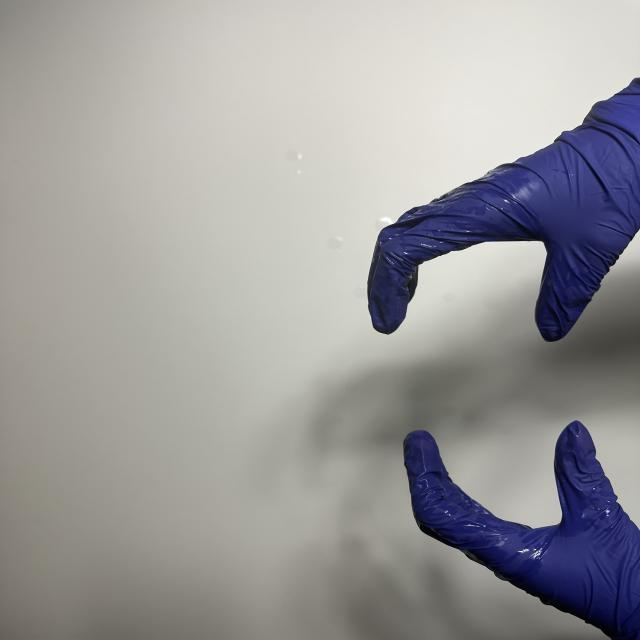gloves_contaminated: (368, 78, 640, 342), (404, 421, 640, 640)
